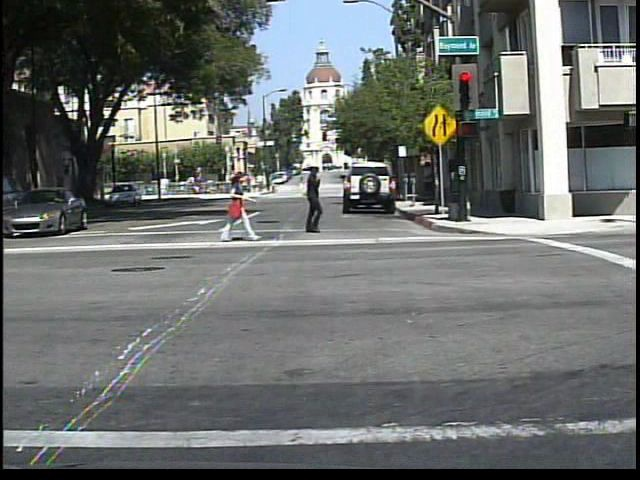person: (217, 167, 258, 242), (294, 164, 334, 238), (269, 173, 287, 195), (299, 176, 315, 196)
